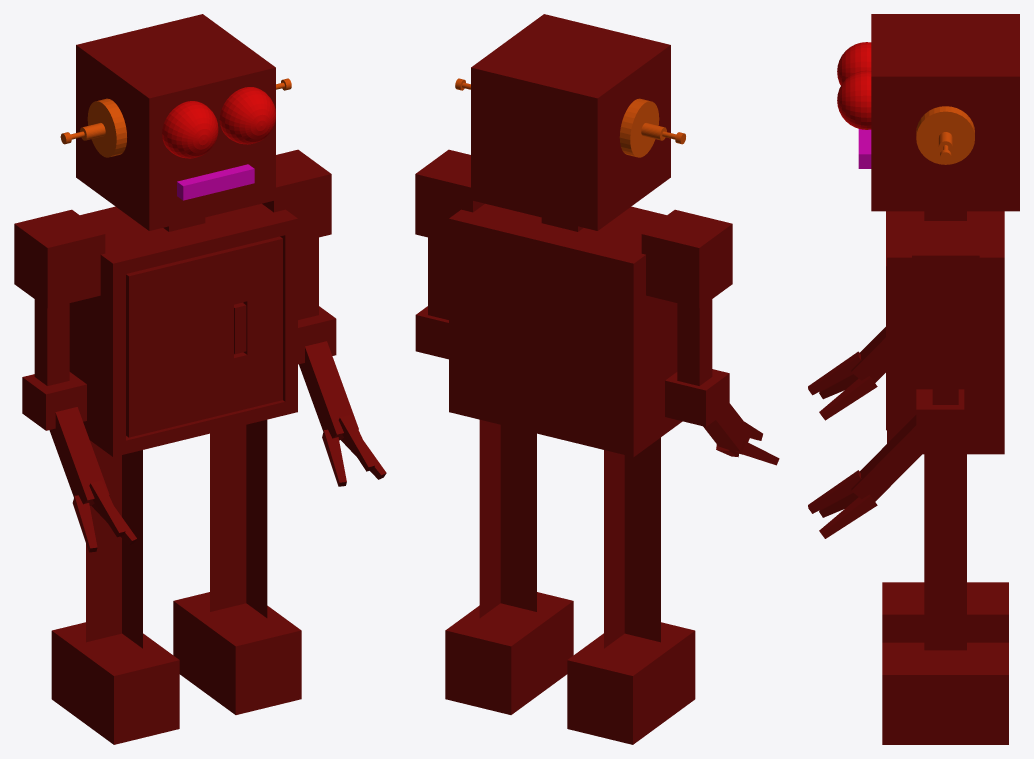
Rendered from robot_Ember2.dae.
3 renders of one model, left to right at view 1: azimuth 30°, elevation 25°; view 2: azimuth 150°, elevation 25°; view 3: azimuth 270°, elevation 25°, orthographic.
Visible parts, largest first — view 1: Cube_008; view 2: Cube_008; view 3: Cube_008.
Part boxes in pixels (x1,y1,x2,y2): Cube_008: [14, 14, 386, 744]; Cube_008: [415, 14, 779, 744]; Cube_008: [808, 14, 1019, 744].
Size of the model in its own units: 2.34 by 1.43 by 4.85.
